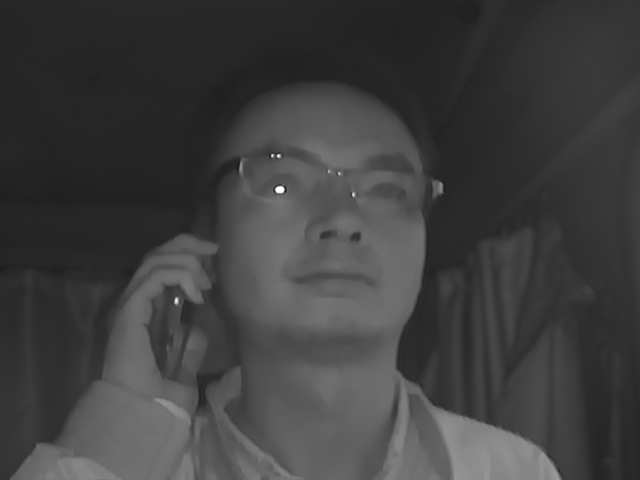hand: (99, 228, 216, 405)
